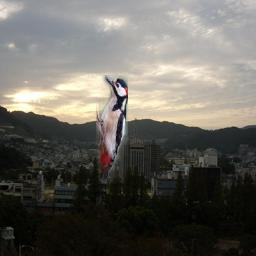Woodpecker: (96, 75, 128, 205)
